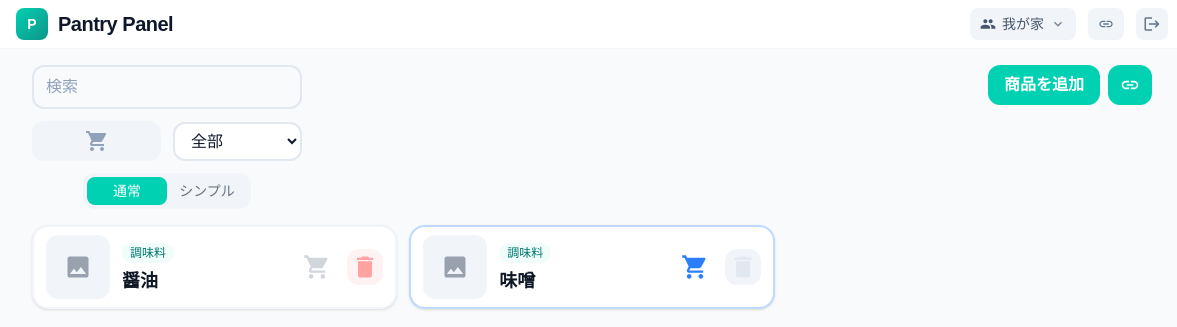
Scenario: StockItemsClient › トグルボタンをクリックするとwantToBuyが反転し一覧が更新される
The width and height of the screenshot is (1177, 327).
Expected: the heading "醤油" is shown, [122, 270, 158, 290]
Click the 1st button named "want to buy" at (317, 267), box [299, 249, 335, 285]
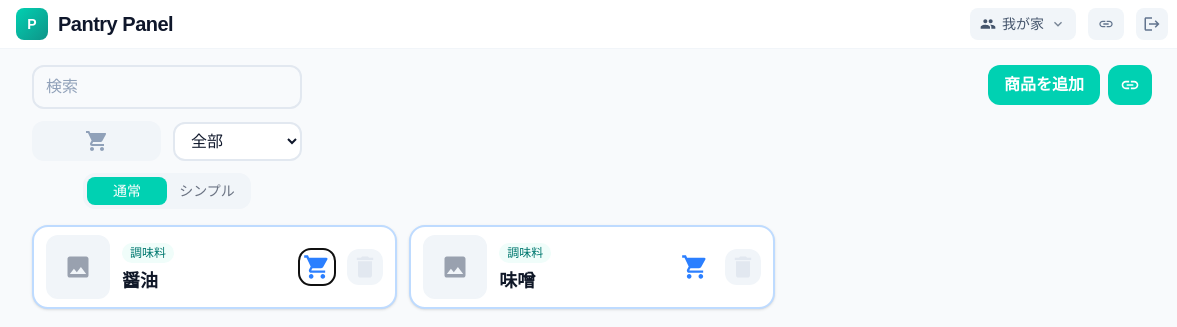
Expected: the 1st button named "削除" is disabled, [347, 249, 383, 285]
